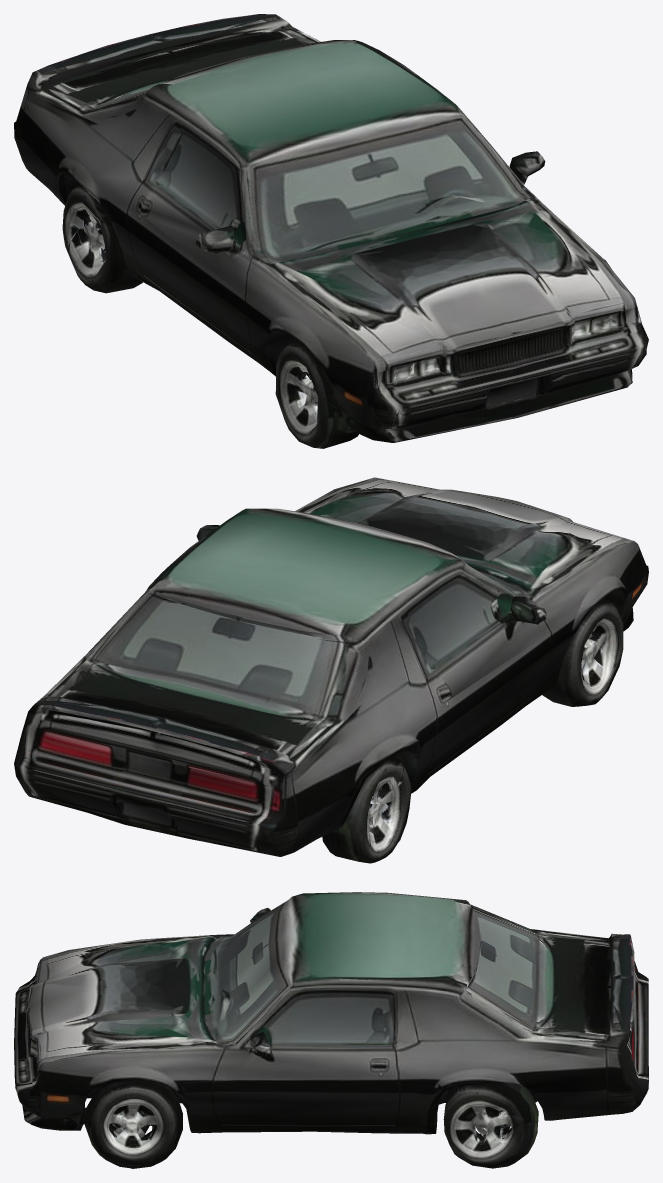
File: gnx_87.glb
The picture shows the model from 3 angles, top to bottom: view 1: azimuth 30°, elevation 25°; view 2: azimuth 150°, elevation 25°; view 3: azimuth 270°, elevation 25°; orthographic projection. The views are drawn at different scales.
Parts seen in each view (by area): view 1: textured; view 2: textured; view 3: textured.
Boxes of the visible parts, x1,y1,x2,y2 form: textured: [14, 14, 648, 448]; textured: [14, 477, 648, 863]; textured: [14, 892, 648, 1168].
Bounding box in the file's own units: 1.05 × 0.6246 × 1.99.
Materials: 1 (1 with a texture image).
